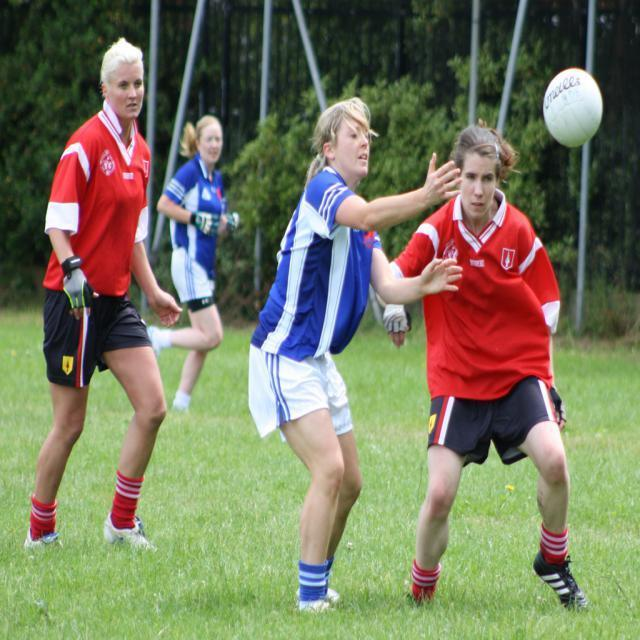football: (526, 63, 618, 157)
